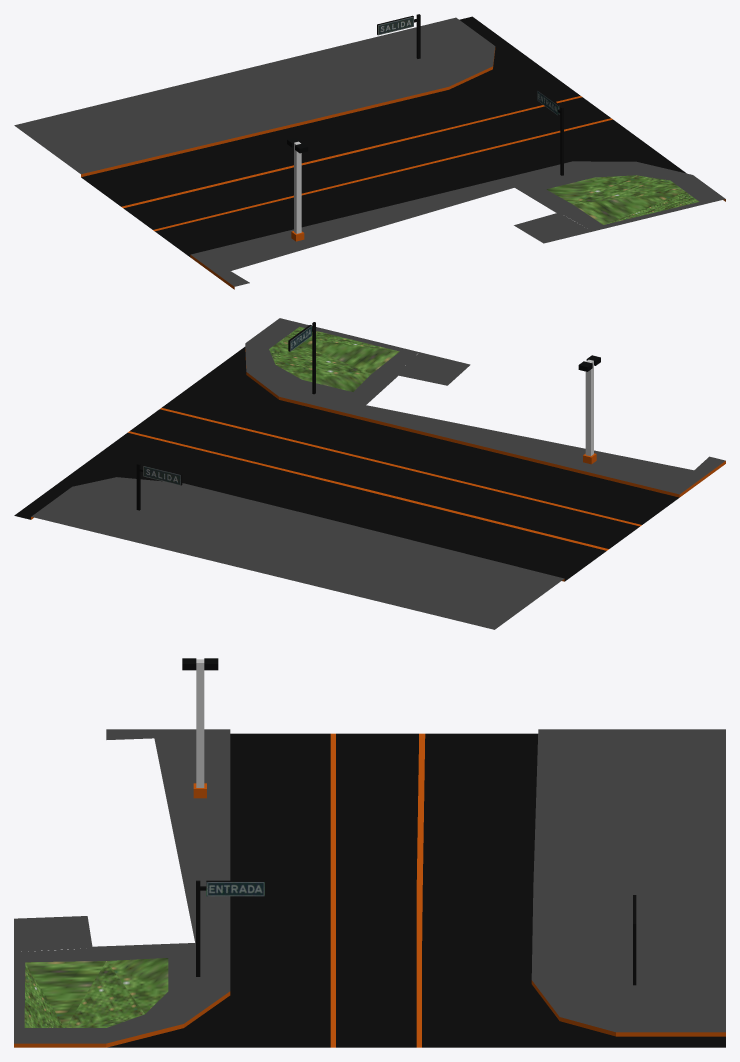
The model's file is 0A_phut_s.obj.
3 renders of one model, top to bottom at view 1: azimuth 30°, elevation 25°; view 2: azimuth 150°, elevation 25°; view 3: azimuth 270°, elevation 25°, orthographic. The views are drawn at different scales.
Parts seen in each view (by area): view 1: 0A_phut_s_Grid.010; view 2: 0A_phut_s_Grid.010; view 3: 0A_phut_s_Grid.010.
Boxes of the visible parts, x1,y1,x2,y2 form: 0A_phut_s_Grid.010: [14, 14, 725, 289]; 0A_phut_s_Grid.010: [14, 318, 725, 629]; 0A_phut_s_Grid.010: [14, 658, 725, 1047].
Size of the model in its own units: 16 by 3.29 by 15.32.
6 materials, 1 textured.
